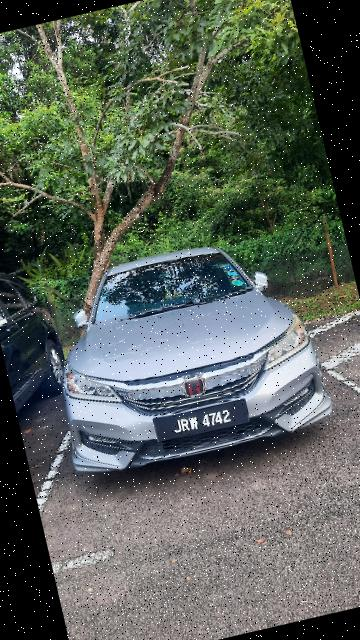License_Plate: (152, 396, 252, 448)
car: (29, 221, 337, 485)
